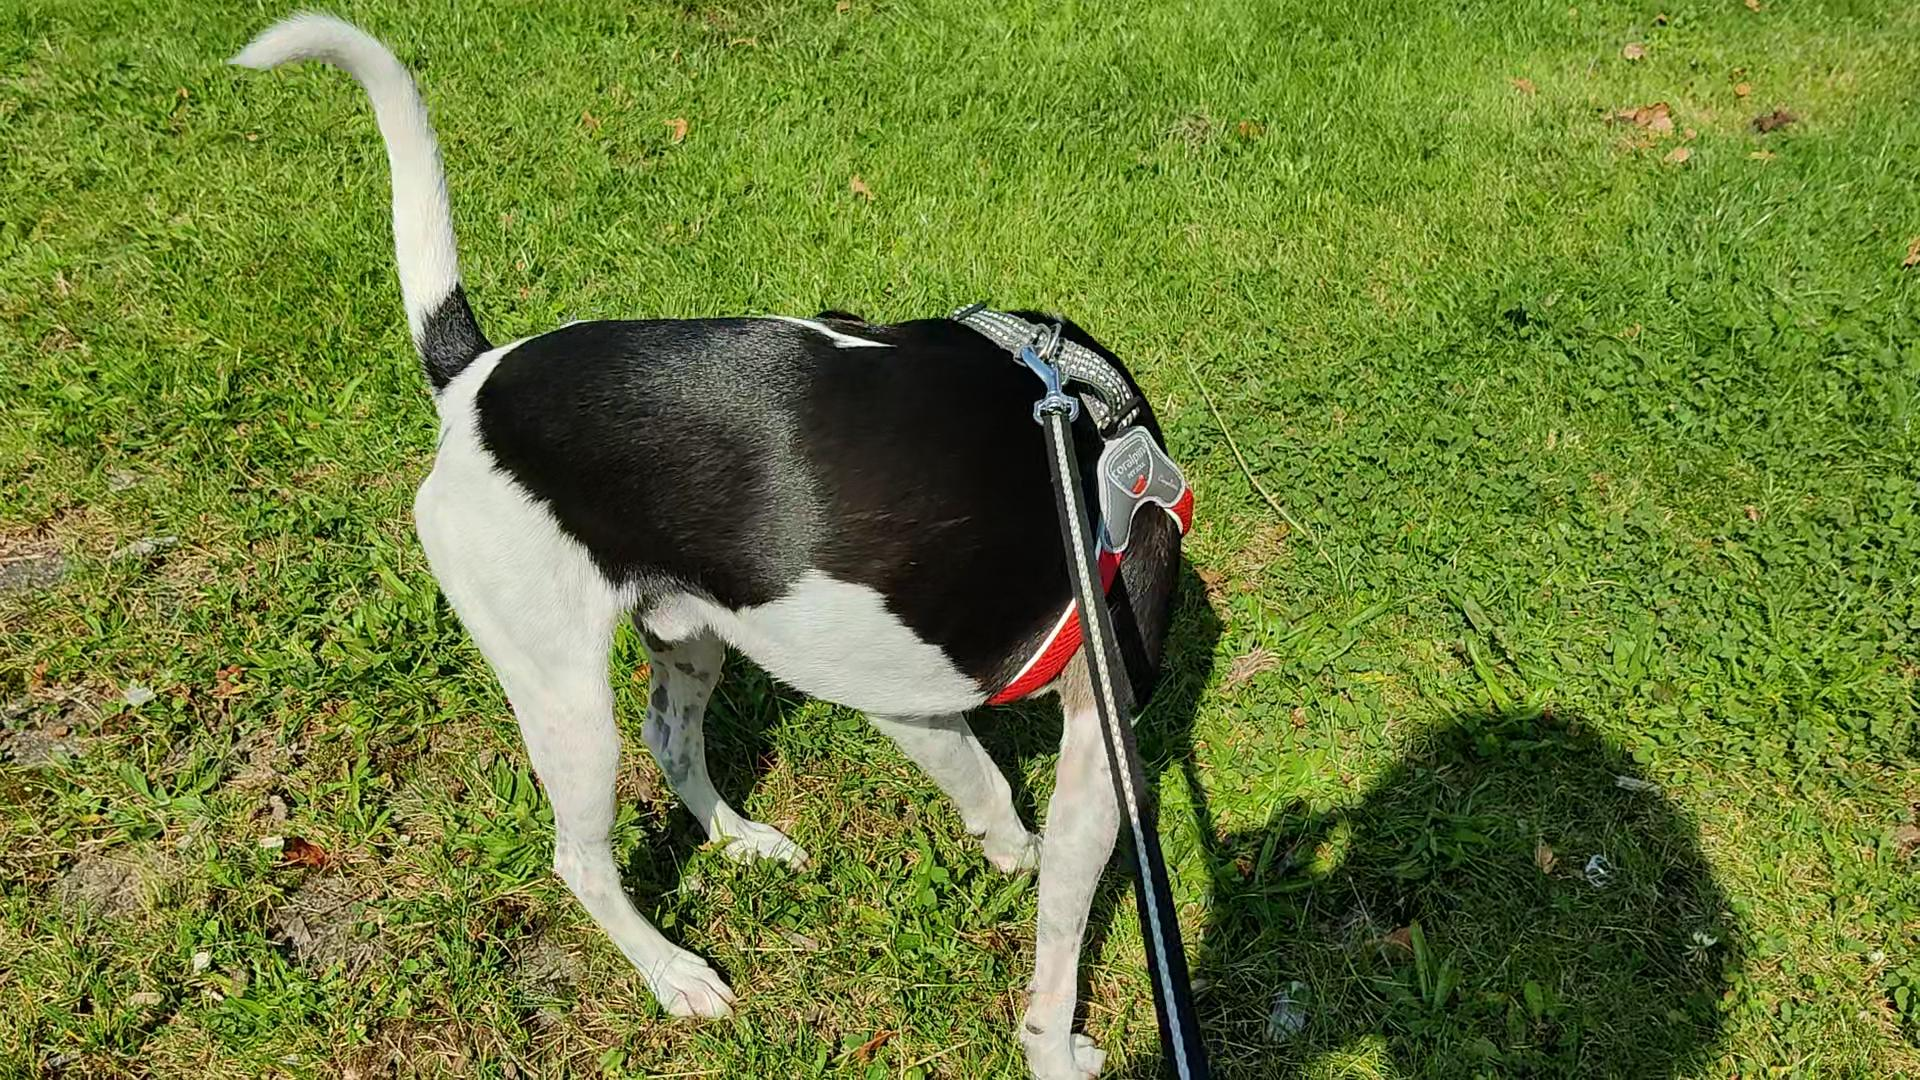Dog: (208, 3, 1207, 1079)
